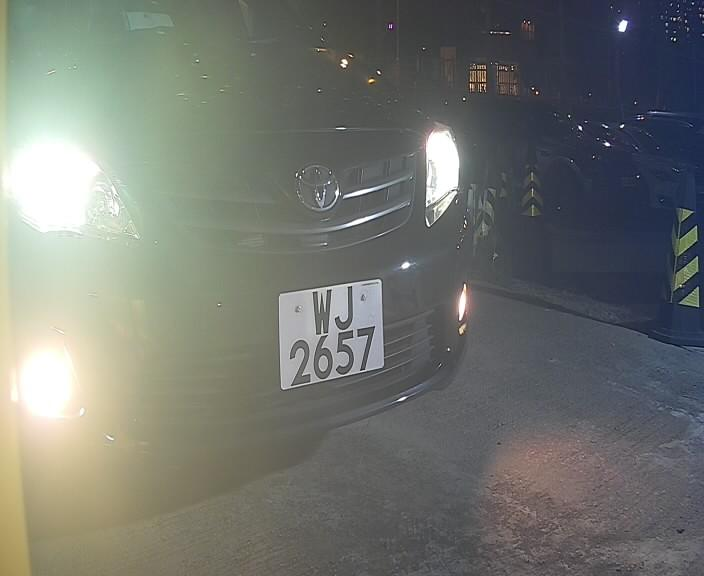Car: (7, 8, 538, 520)
License Plate: (265, 265, 393, 404)
